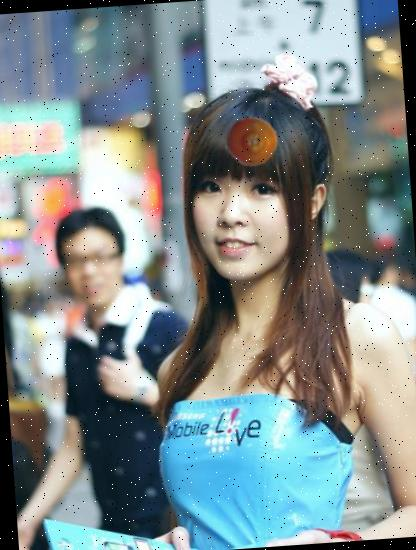Tangelo: (222, 111, 280, 168)
